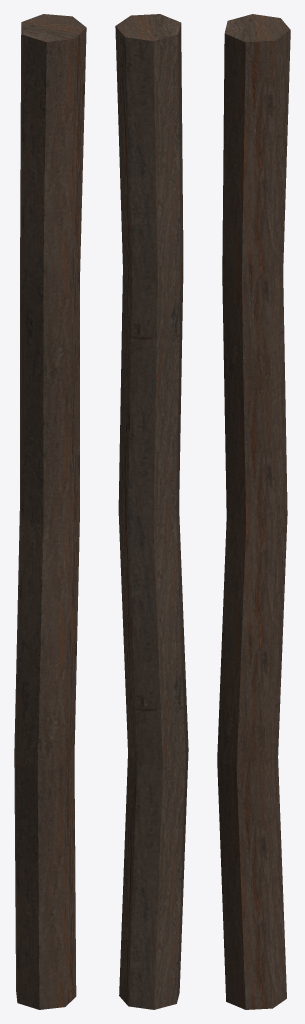
3 renders of one model, left to right at view 1: azimuth 30°, elevation 25°; view 2: azimuth 150°, elevation 25°; view 3: azimuth 330°, elevation 25°, orthographic.
Visible parts, largest first — view 1: Cylinder.006_Baked; view 2: Cylinder.006_Baked; view 3: Cylinder.006_Baked.
Part boxes in pixels (box(x1,y1,x2,y2)): Cylinder.006_Baked: box(14, 14, 86, 1009); Cylinder.006_Baked: box(115, 14, 188, 1009); Cylinder.006_Baked: box(217, 14, 290, 1009).
Size of the model in its own units: 18.01 by 262 by 17.22.
1 material, 1 textured.
